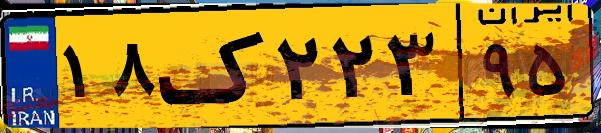1: (57, 26, 110, 100)
2: (270, 28, 330, 110), (330, 28, 385, 110)
3: (385, 28, 445, 110)
5: (525, 38, 570, 115)
8: (110, 28, 158, 98)
9: (475, 38, 525, 113)
ک: (158, 12, 270, 120)
